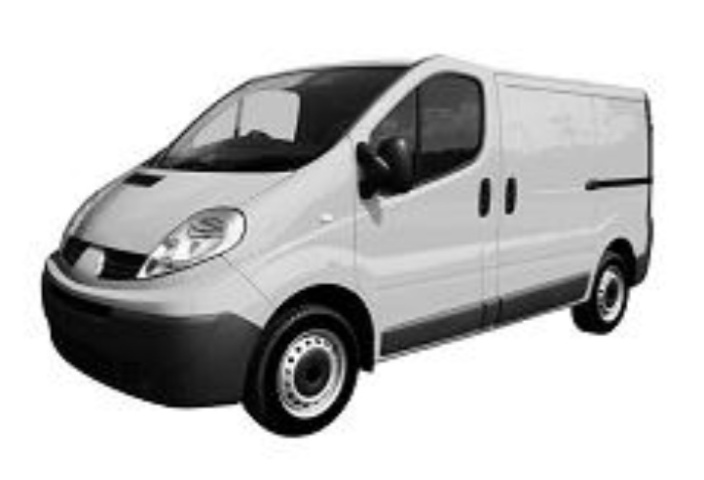van: (41, 37, 661, 445)
